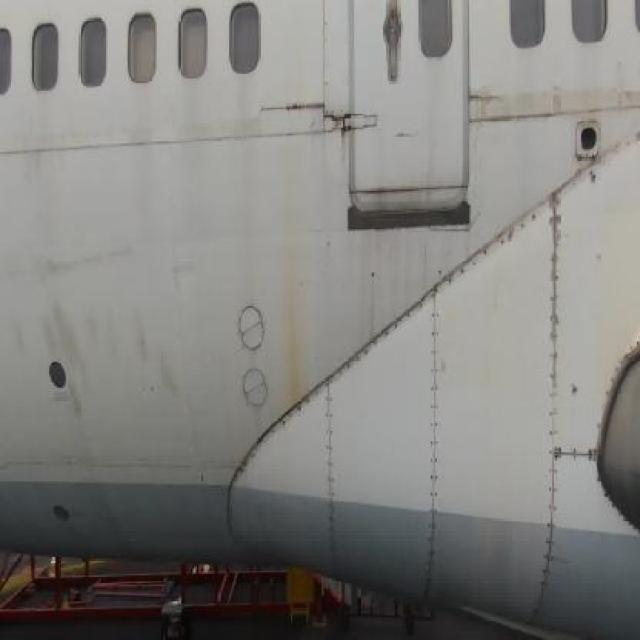Missing-Rivet: (541, 181, 565, 596), (442, 209, 540, 302), (336, 298, 424, 380), (426, 280, 446, 588), (262, 387, 321, 461), (322, 372, 344, 568), (571, 432, 598, 478)
Rust: (272, 169, 320, 417), (333, 102, 352, 170)
Scartch: (6, 294, 185, 431), (17, 228, 146, 289), (470, 76, 568, 135), (609, 52, 636, 128), (170, 243, 208, 286)
